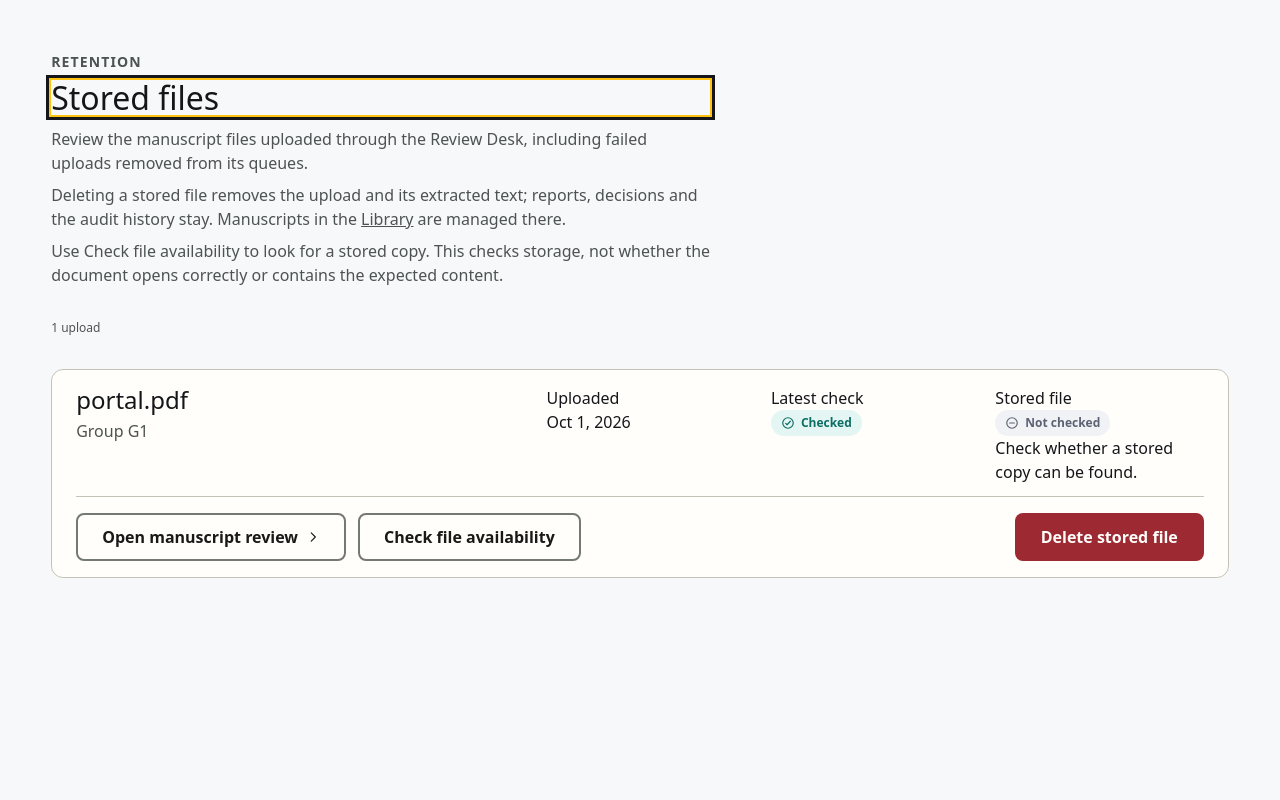
Scenario: Stored files (V-078) › shows found independently of the saved report
Click the button with aria-label "Check file availability: portal.pdf" at coordinates (469, 537), box [358,513,581,561]
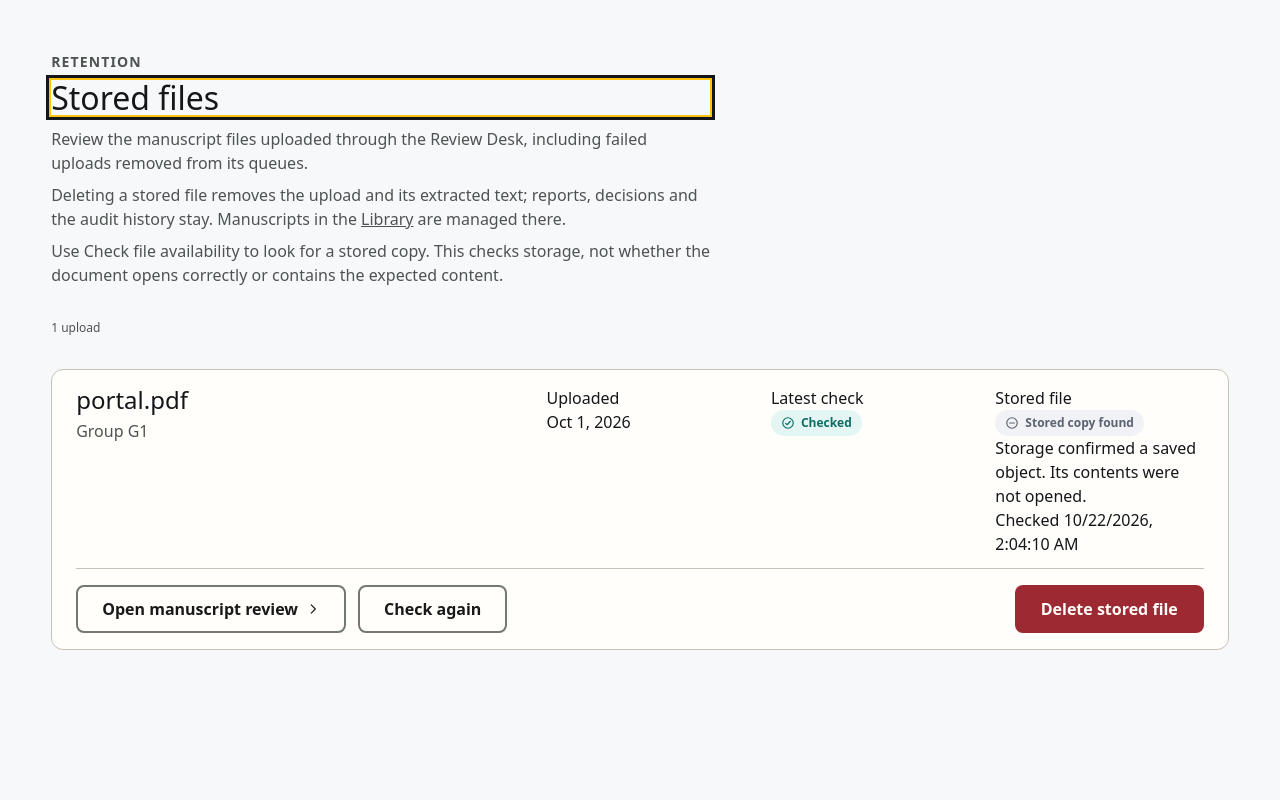
expect the text "Stored copy found" is shown: met, box [995,410,1144,436]
expect the text "Storage confirmed a saved object. Its contents were not opened." is shown: met, box [995,436,1204,508]
expect the text "Checked 10/22/2026, 2:04:10 AM" is shown: met, box [995,509,1153,555]
